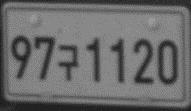0: (155, 38, 179, 85)
1: (110, 37, 126, 83), (85, 37, 101, 82)
2: (133, 38, 155, 85)
7: (33, 35, 56, 80)
9: (10, 35, 32, 79)
구: (57, 44, 80, 81)
